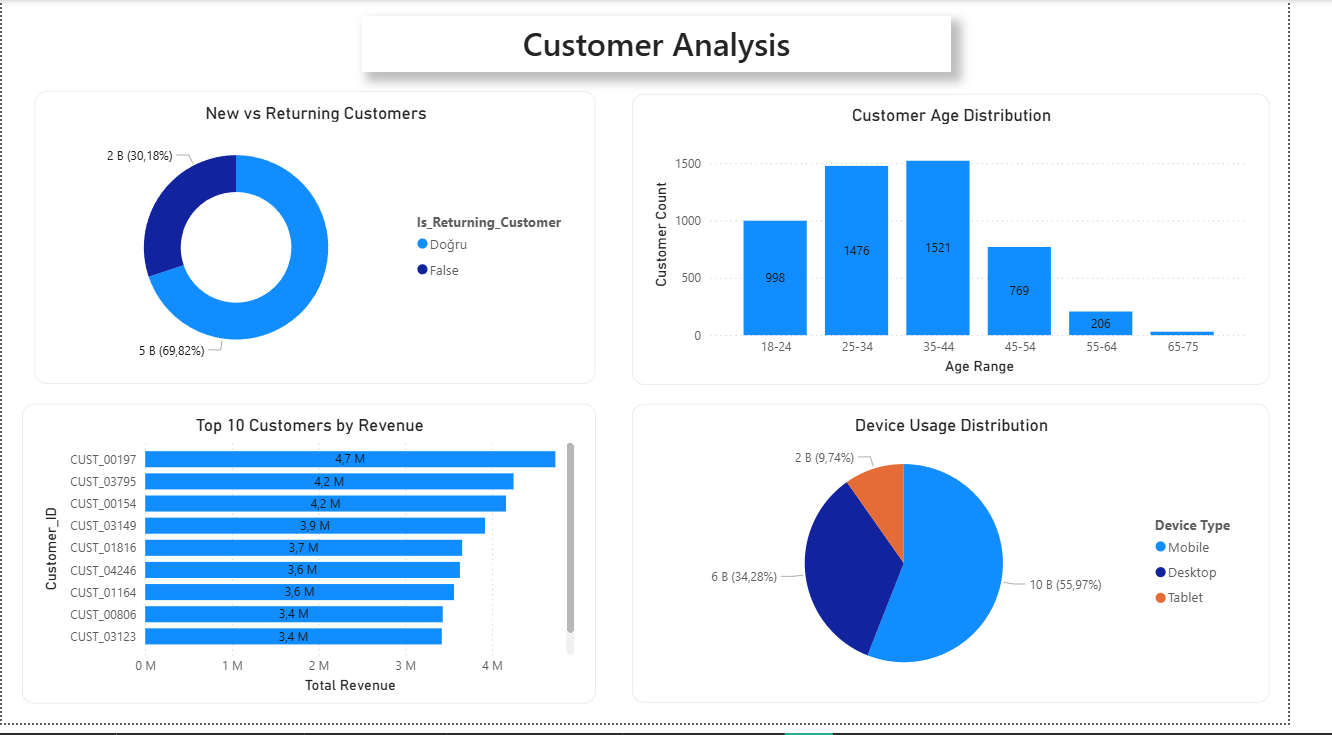

This screenshot's page, from the dashboard's own definition file:
{"tool":"powerbi","page":{"name":"Customer Analysis","canvas":[1280,720],"ordinal":2},"visuals":[{"type":"textbox","title":"E-Commerce Performance Overview","box":[358.7,16.6,586.3,55.2],"z":0},{"type":"donutChart","title":"New vs Returning Customers","fields":{"Category":["cleaned_data.Is_Returning_Customer"],"Y":["cleaned_data.Total Customers"]},"box":[32.3,90.8,558.5,291.1],"z":1000},{"type":"clusteredColumnChart","title":"Customer Age Distribution","fields":{"Y":["cleaned_data.Total Customers"],"Category":["cleaned_data.Age_Range"]},"box":[627,93.3,634.4,289.8],"z":2000},{"type":"clusteredBarChart","title":"Top 10  Customers by Revenue","fields":{"Category":["cleaned_data.Customer_ID"],"Y":["cleaned_data.Total Revenue"]},"box":[19.9,401.8,571,298.6],"z":3000},{"type":"pieChart","title":"Device Usage Distribution","fields":{"Y":["cleaned_data.Total Orders"],"Category":["cleaned_data.Device_Type"]},"box":[626.9,402.4,634.5,297.7],"z":4000}]}

Visuals, with their boxes in screenshot pixels (x1, y1, x2, y2), scaled from the page's 1280x720 canvas onto the 1332x735 screenshot:
"E-Commerce Performance Overview" textbox: {"x1": 373, "y1": 17, "x2": 983, "y2": 73}
"New vs Returning Customers" donutChart: {"x1": 34, "y1": 93, "x2": 615, "y2": 390}
"Customer Age Distribution" clusteredColumnChart: {"x1": 652, "y1": 95, "x2": 1313, "y2": 391}
"Top 10  Customers by Revenue" clusteredBarChart: {"x1": 21, "y1": 410, "x2": 615, "y2": 715}
"Device Usage Distribution" pieChart: {"x1": 652, "y1": 411, "x2": 1313, "y2": 715}
